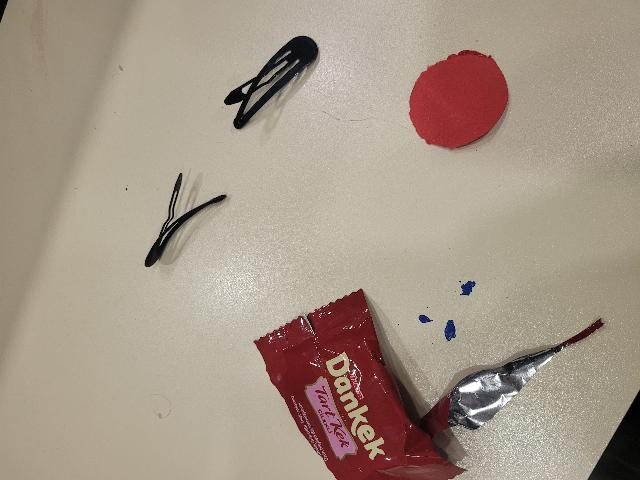Kagit: (405, 41, 536, 165)
Metal: (217, 28, 326, 137), (140, 169, 237, 283)
Plastik: (245, 287, 605, 480)
